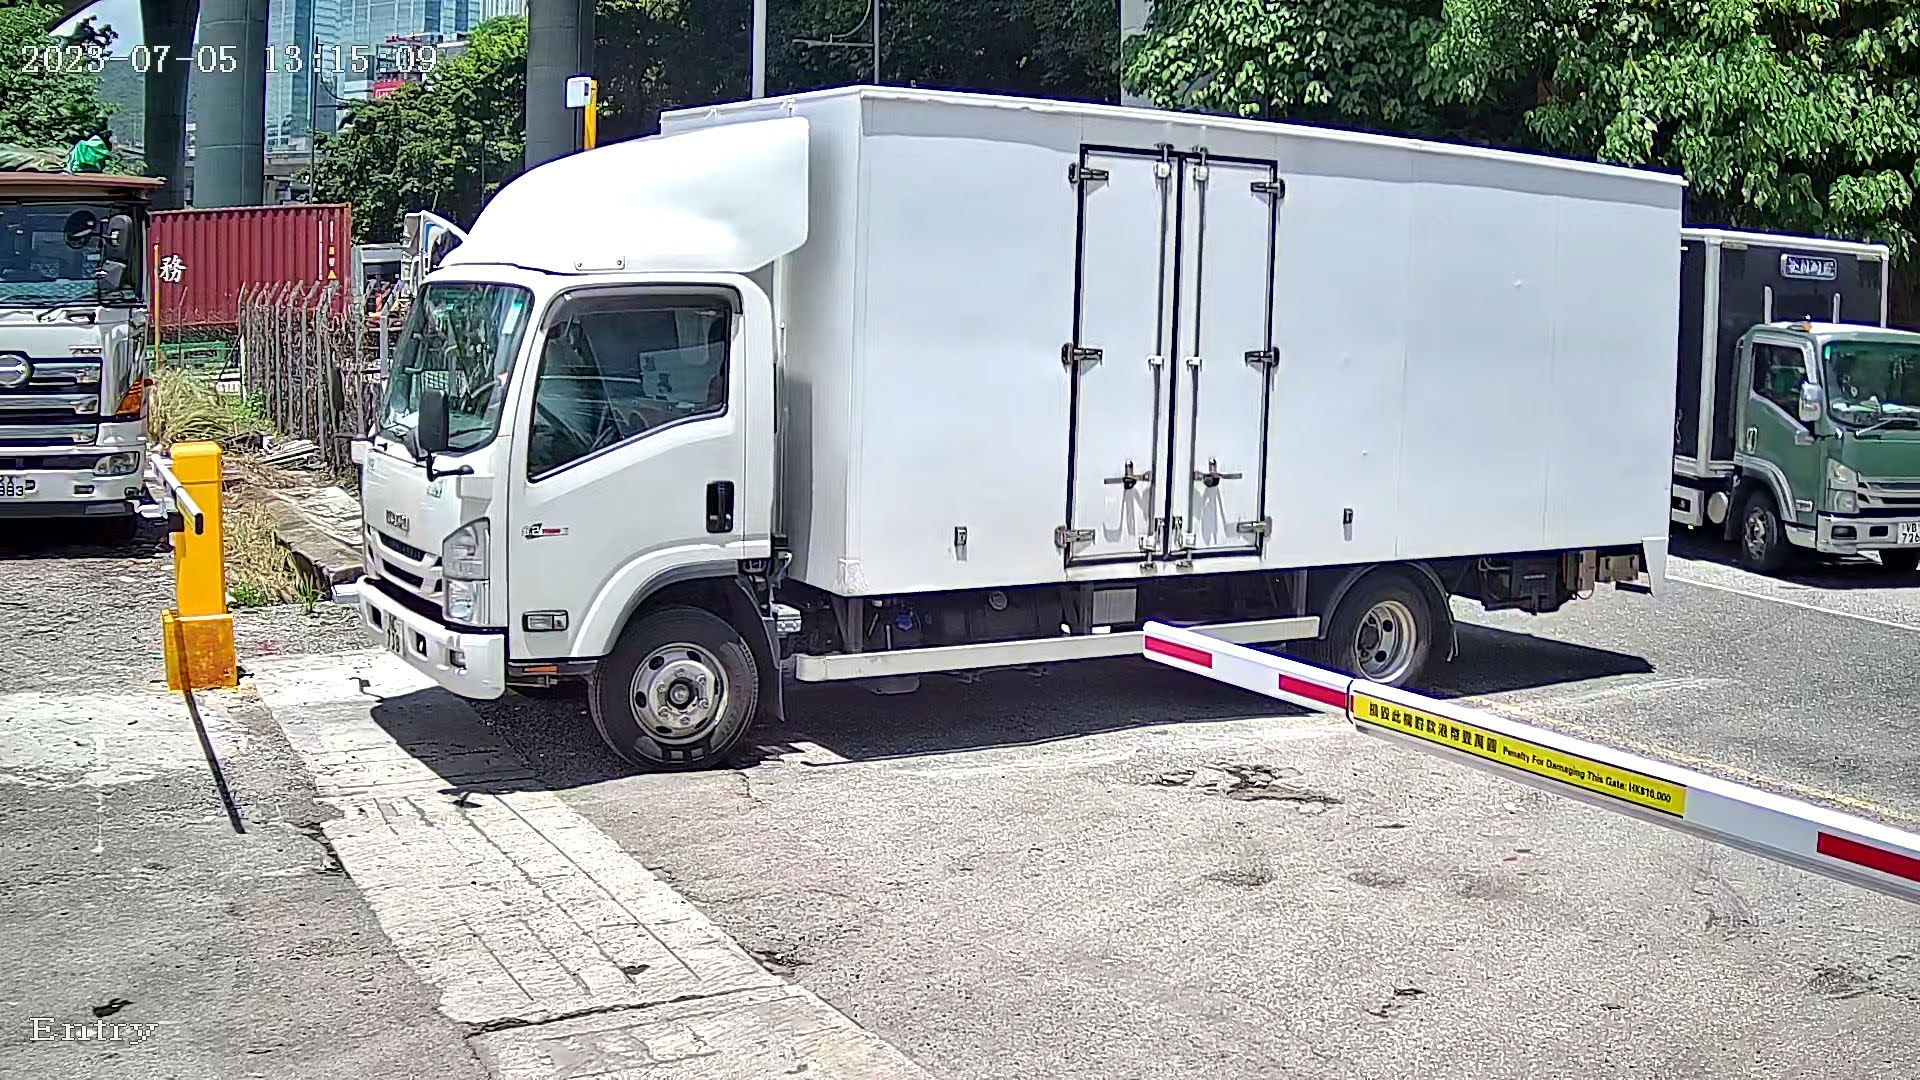truck_small: (316, 50, 1731, 810)
